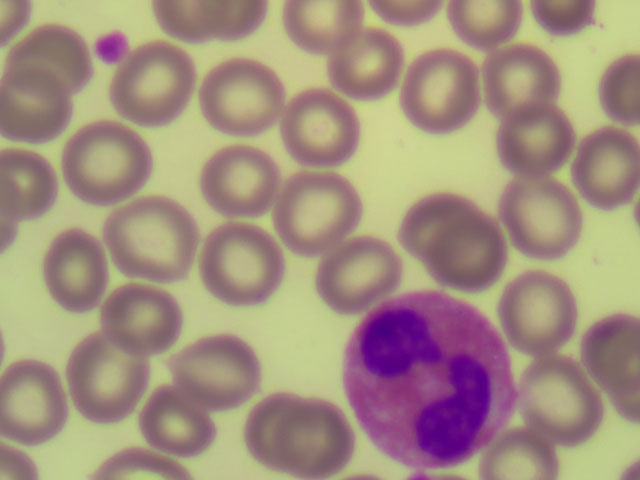Platelets: (93, 33, 130, 63)
RBC: (59, 128, 157, 199), (177, 332, 265, 408), (110, 200, 198, 275), (203, 228, 286, 307), (273, 175, 360, 248), (417, 214, 506, 285), (406, 53, 482, 134), (71, 335, 141, 421), (1, 62, 70, 148), (205, 59, 286, 132), (498, 105, 576, 180), (197, 146, 282, 214), (505, 179, 579, 256), (288, 95, 370, 162), (399, 201, 493, 259), (274, 396, 347, 470), (133, 44, 197, 127), (506, 272, 573, 351), (49, 227, 109, 315), (574, 129, 640, 206), (524, 378, 601, 443), (12, 38, 96, 94), (322, 237, 400, 297), (105, 294, 182, 354), (526, 353, 589, 426), (325, 32, 401, 92), (490, 51, 558, 118), (4, 366, 67, 438), (584, 313, 640, 394), (147, 392, 217, 453), (276, 1, 353, 50), (247, 402, 306, 465), (1, 147, 52, 215), (502, 437, 571, 480), (92, 450, 187, 480), (448, 1, 525, 37), (601, 53, 640, 124), (155, 1, 220, 42), (201, 1, 269, 40), (533, 1, 595, 36), (364, 1, 439, 17), (1, 445, 32, 480), (1, 1, 25, 44), (1, 206, 13, 248), (625, 464, 640, 480)
WBC: (356, 303, 506, 460)
